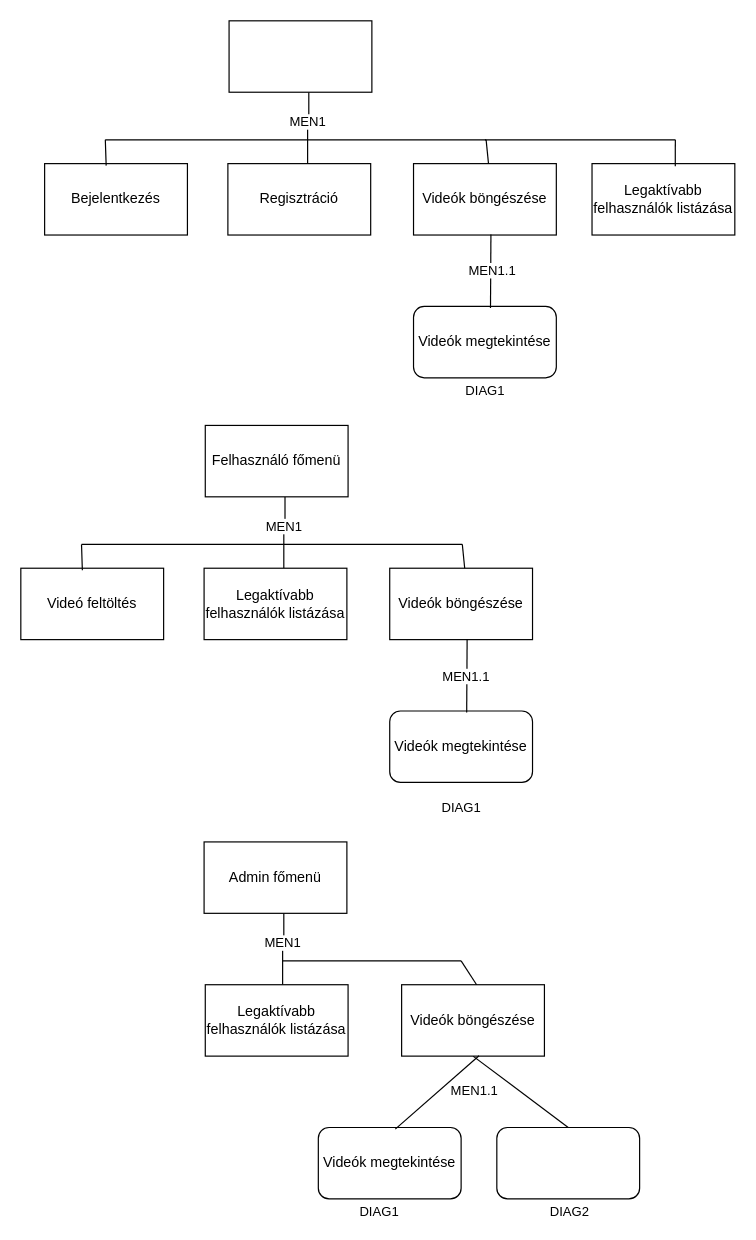
This 756x1240 diagram has some shape labels left out. The centre of each missing label's shape, as x and y in pixels:
Látogató főmenü: (300,56)
Videó törlése: (568,1162)
